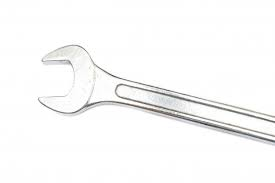wrench: (34, 39, 275, 153)
